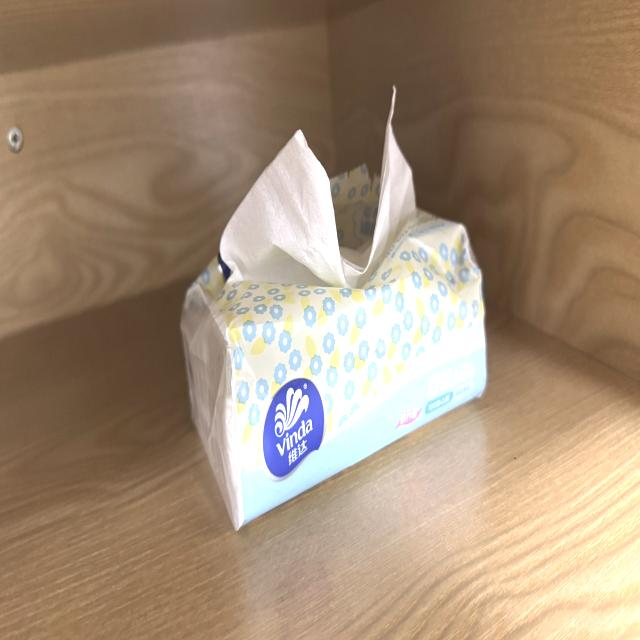tissue: (182, 108, 485, 528), (220, 90, 415, 287)
